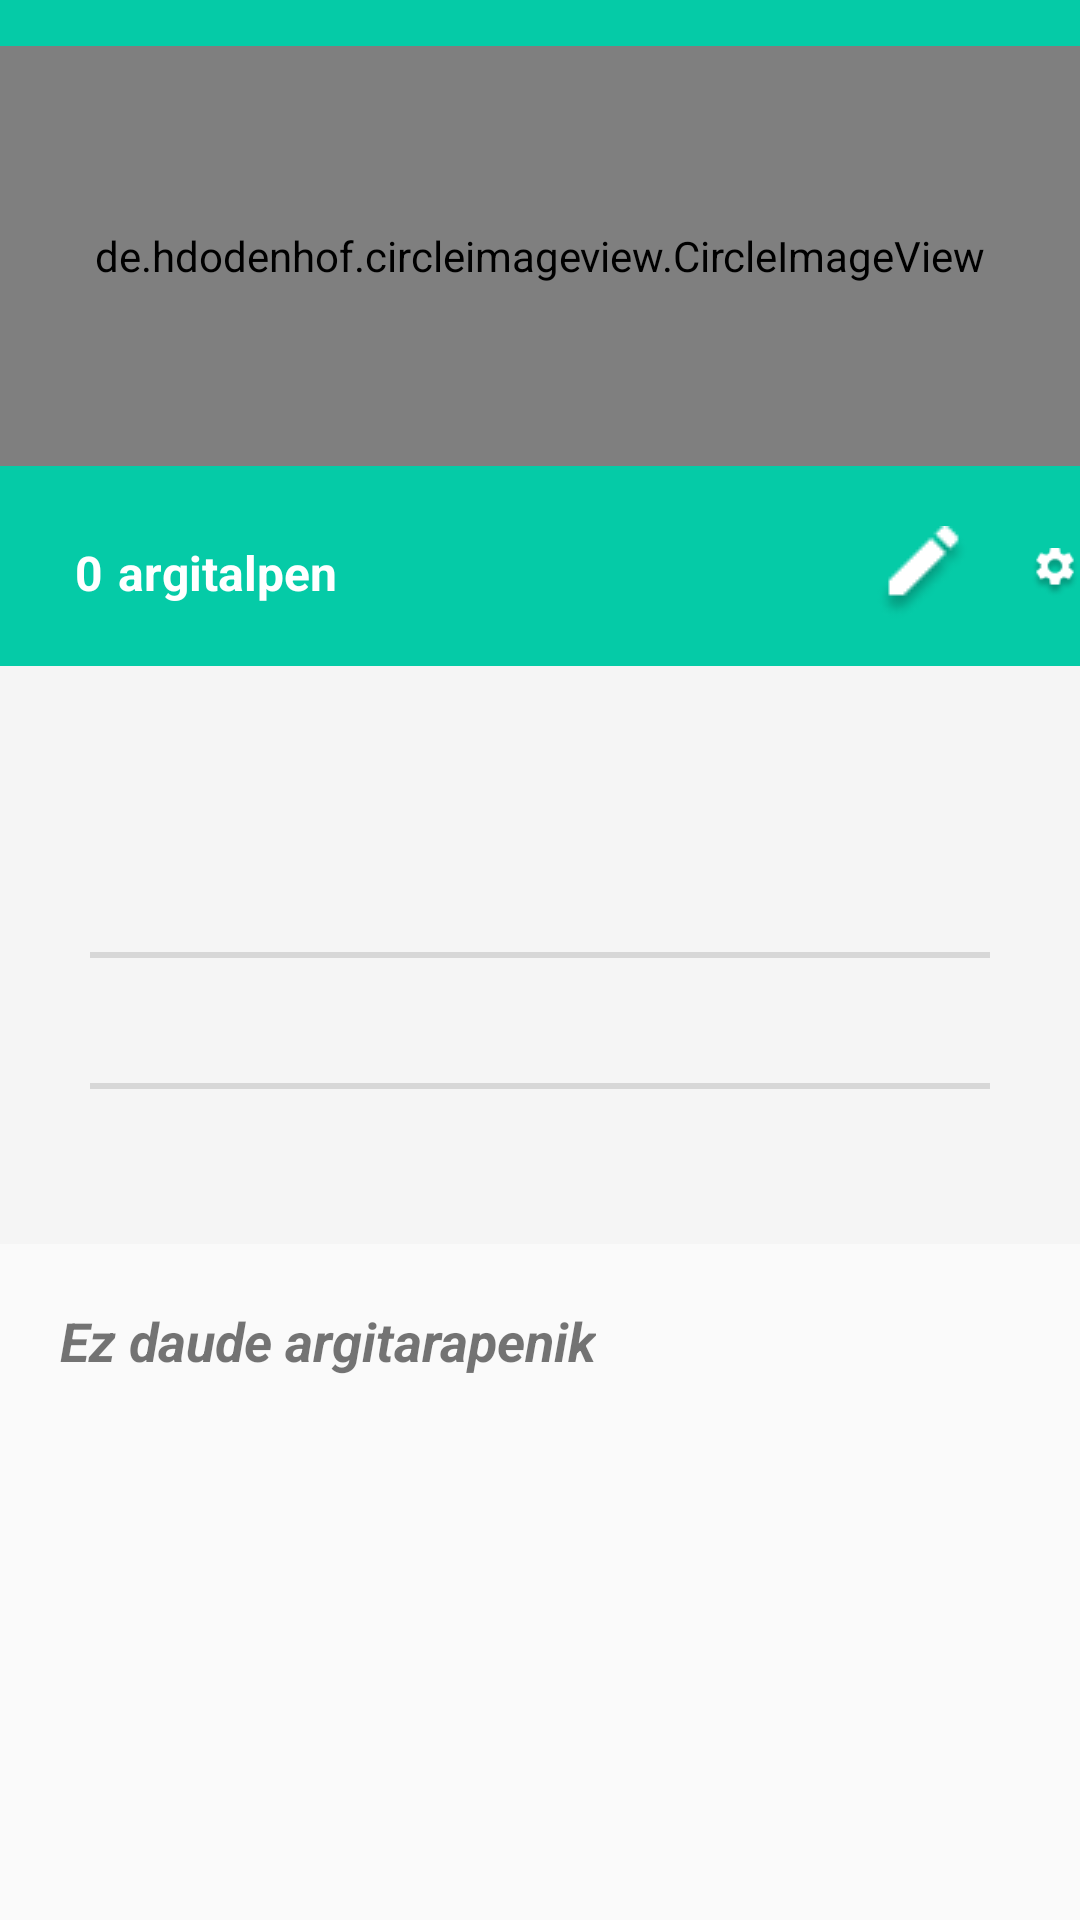

Screen size 1080px×1920px. Icon name, then its box in pixels as (x1, y1, x2, y2):
editatu ikonoa: (888, 526, 959, 606)
konfigurazioa ikonoa: (1036, 548, 1074, 591)
